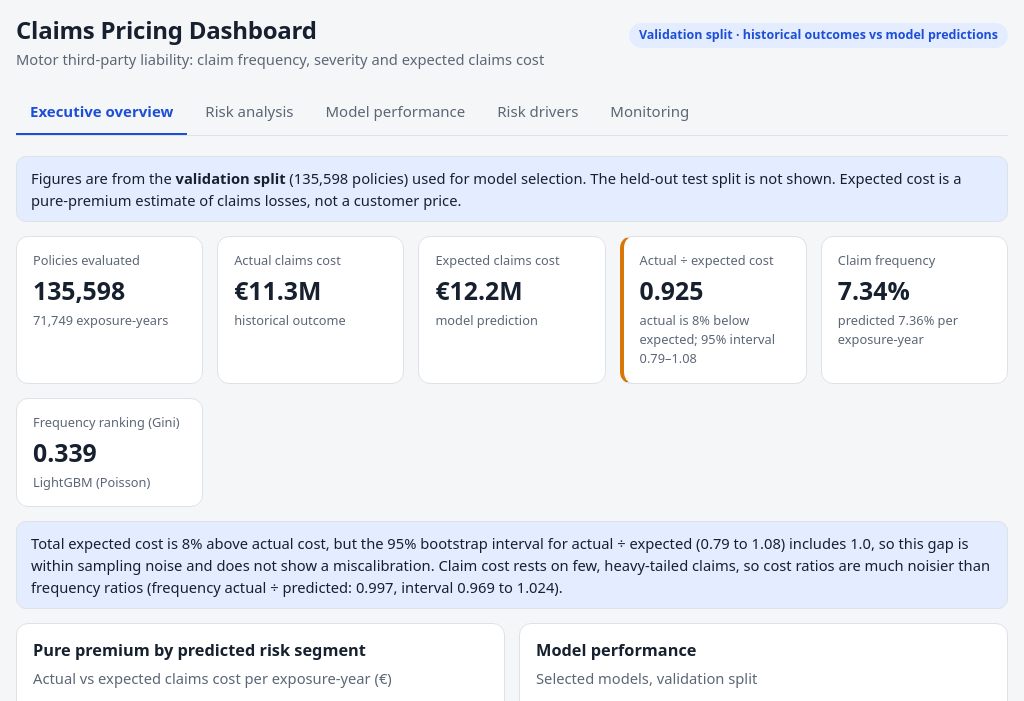
Test case: Model performance page › labels each severity bootstrap result from its interval, never overstating
The width and height of the screenshot is (1024, 701).
Expected: the text "Policies evaluated" is shown, x1=33 y1=251 x2=140 y2=269
Click the tab "Model performance": coordinates (395, 112) x1=312 y1=90 x2=479 y2=135
(page scrolled)
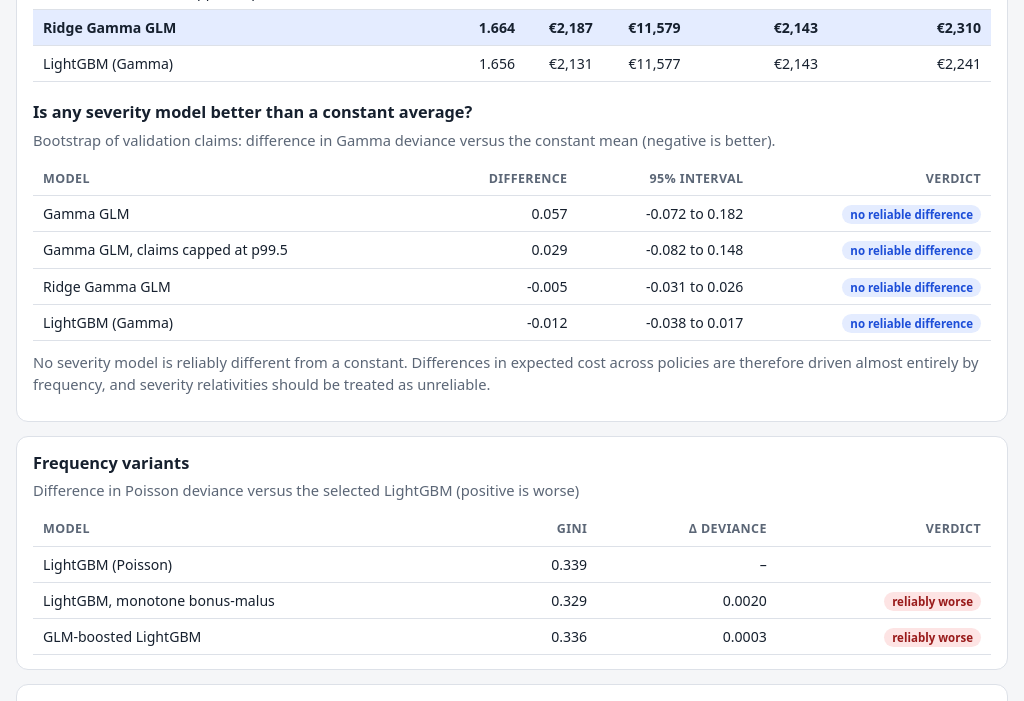
Now the text "No severity model is reliably different from a constant" is shown, box x1=33 y1=352 x2=978 y2=394
